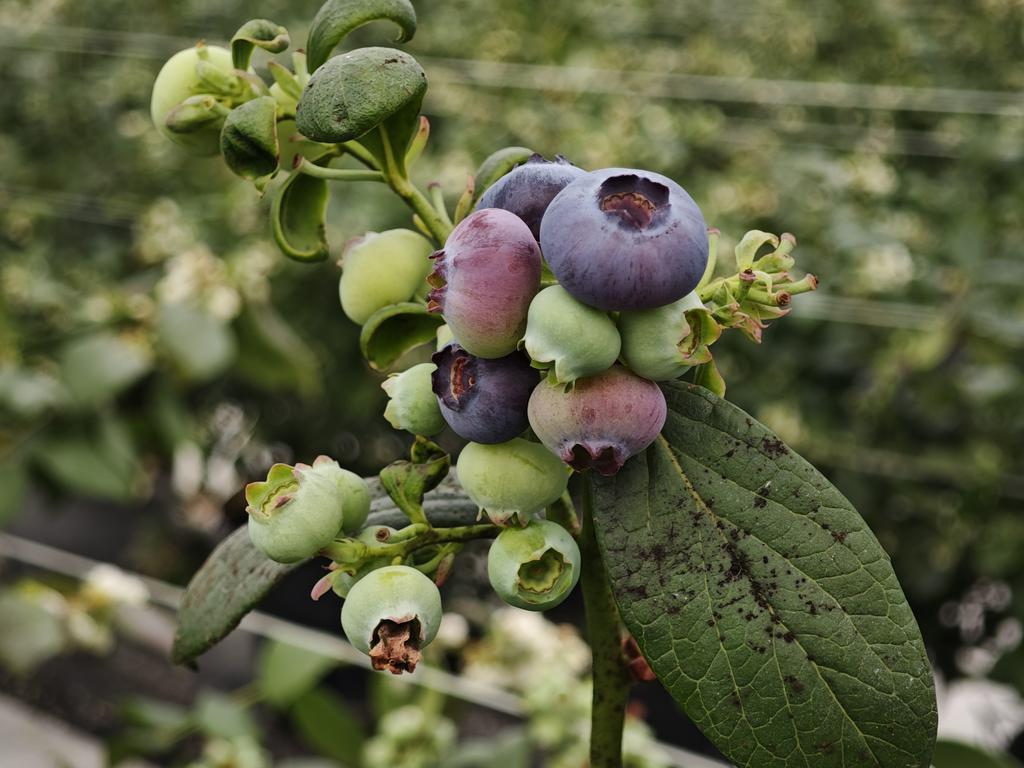RipeBlueBerry: (534, 165, 711, 312), (428, 341, 534, 444)
Semi-RipeBlueBerry: (428, 206, 540, 360), (526, 371, 668, 469)
UnripeBlueBerry: (450, 436, 572, 526), (338, 563, 445, 665), (516, 281, 624, 380)
